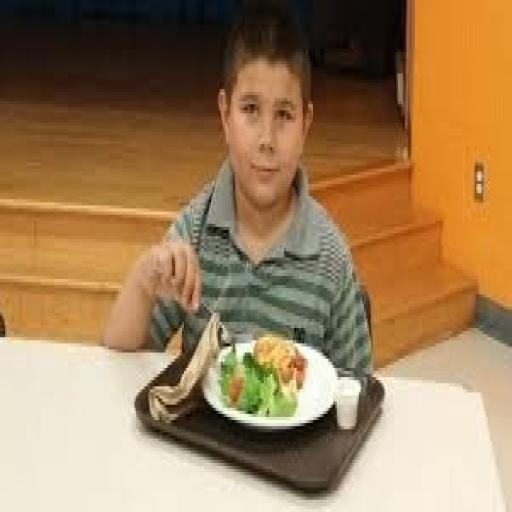eating: (100, 6, 374, 377)
